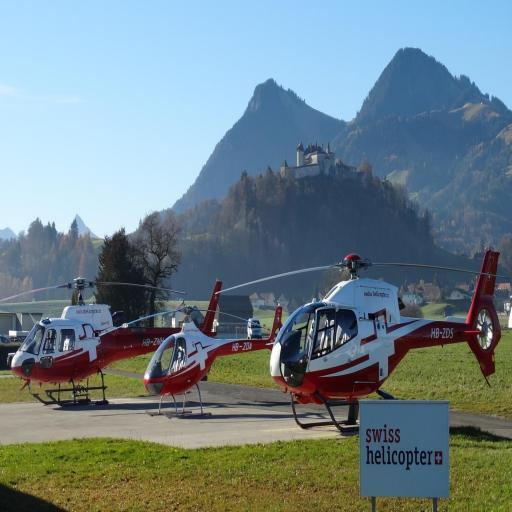helicopter: (266, 186, 512, 382), (8, 241, 228, 424), (142, 224, 297, 390)
